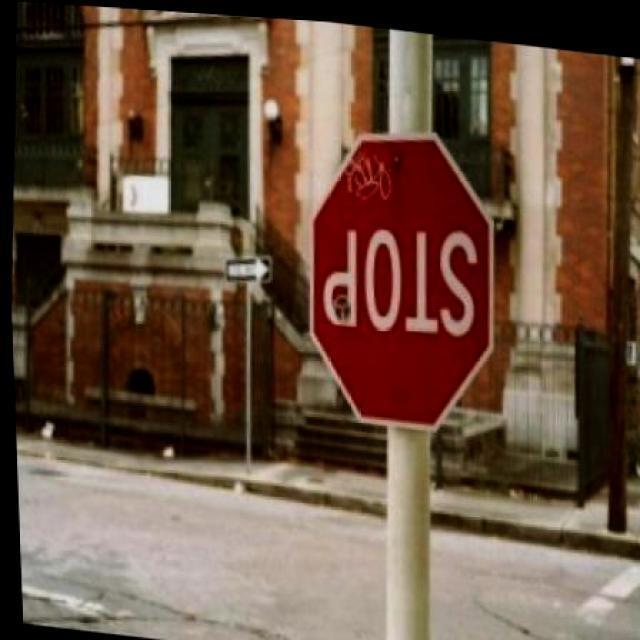Stop-Sign: (312, 135, 492, 428)
